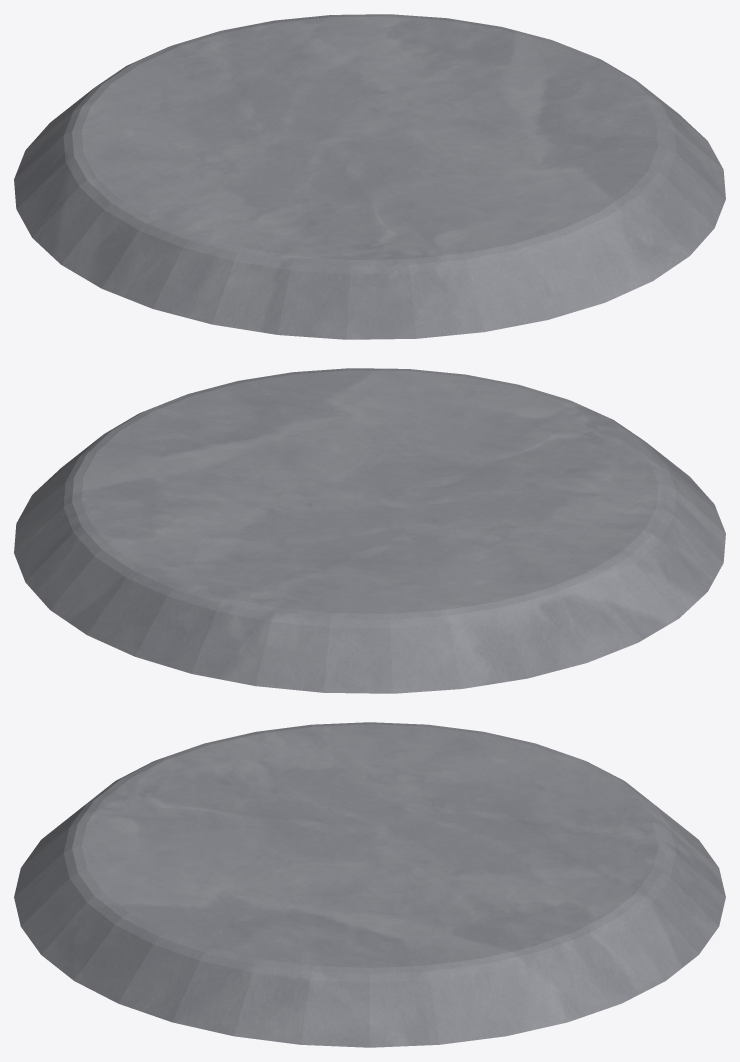
File: flag_field.obj
3 renders of one model, top to bottom at view 1: azimuth 30°, elevation 25°; view 2: azimuth 150°, elevation 25°; view 3: azimuth 270°, elevation 25°, orthographic.
Visible parts, largest first — view 1: Circle_Material.001; view 2: Circle_Material.001; view 3: Circle_Material.001.
Part boxes in pixels (x1,y1,x2,y2): Circle_Material.001: (14,14,725,339); Circle_Material.001: (14,368,725,693); Circle_Material.001: (14,722,725,1047).
Size of the model in its own units: 3.06 by 0.2424 by 3.06.
